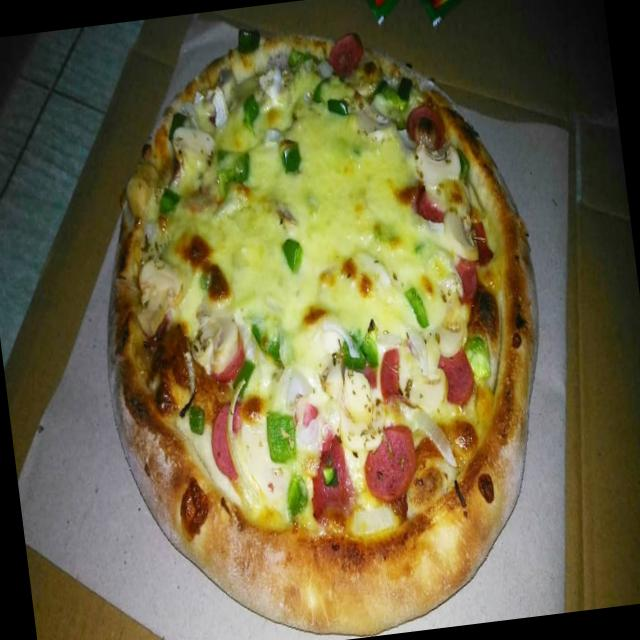pepperoni: (360, 420, 420, 506), (202, 398, 252, 488), (432, 342, 478, 412), (207, 330, 250, 390), (368, 341, 407, 405), (322, 28, 365, 82), (406, 100, 445, 153), (452, 254, 483, 308)
peppers: (262, 402, 302, 468), (335, 329, 381, 376), (214, 142, 256, 190), (368, 72, 412, 116), (276, 471, 312, 518), (466, 332, 496, 374), (404, 284, 427, 330), (280, 136, 304, 176), (279, 236, 302, 276), (168, 109, 191, 144), (160, 180, 182, 216), (237, 91, 262, 120), (329, 93, 351, 122), (454, 146, 470, 182), (287, 46, 309, 72), (187, 401, 204, 434)
pizza: (108, 33, 540, 636)
